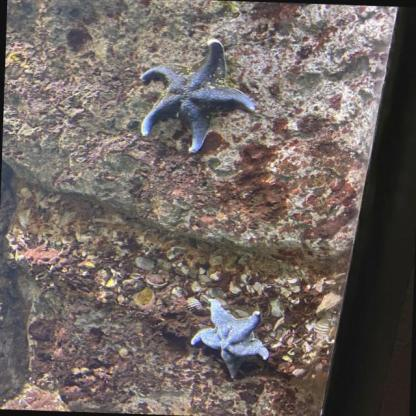starfish: (136, 37, 258, 155), (189, 298, 271, 380)
